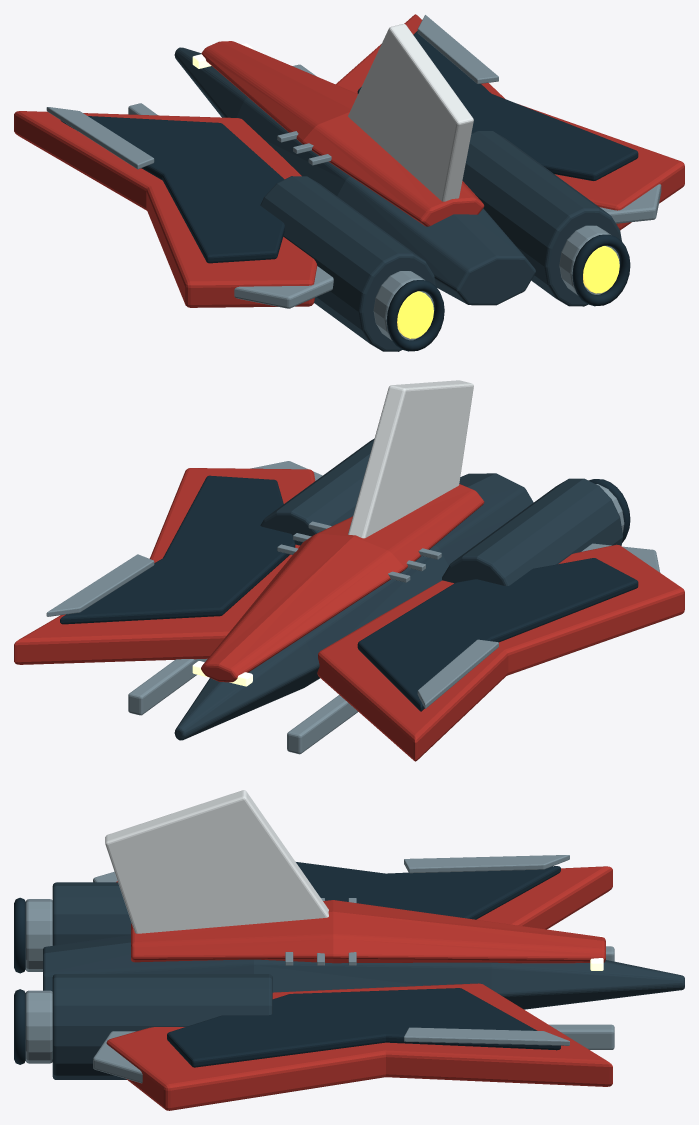
Rendered from InterceptorB-v3.fbx.
3 views of the same model, one above another, from view 1: azimuth 30°, elevation 25°; view 2: azimuth 150°, elevation 25°; view 3: azimuth 270°, elevation 25° (orthographic).
Parts seen in each view (by area): view 1: GFC2_InterceptorB_BladeWing_L, GFC2_InterceptorB_Core, GFC2_InterceptorB_WingPanel_L, GFC2_InterceptorB_Armor, GFC2_InterceptorB_DorsalBlade, GFC2_InterceptorB_Engine_L, GFC2_InterceptorB_Engine_R, GFC2_InterceptorB_WingPanel_R, GFC2_InterceptorB_BladeWing_R, GFC2_InterceptorB_SilverEdge_L, GFC2_InterceptorB_NozzleLip_R, GFC2_InterceptorB_NozzleLip_L (+8 smaller); view 2: GFC2_InterceptorB_BladeWing_L, GFC2_InterceptorB_Armor, GFC2_InterceptorB_WingPanel_R, GFC2_InterceptorB_WingPanel_L, GFC2_InterceptorB_Core, GFC2_InterceptorB_BladeWing_R, GFC2_InterceptorB_DorsalBlade, GFC2_InterceptorB_Engine_L, GFC2_InterceptorB_Engine_R, GFC2_InterceptorB_SilverEdge_R, GFC2_InterceptorB_Gun_R, GFC2_InterceptorB_Gun_L (+2 smaller); view 3: GFC2_InterceptorB_BladeWing_R, GFC2_InterceptorB_DorsalBlade, GFC2_InterceptorB_Armor, GFC2_InterceptorB_Core, GFC2_InterceptorB_WingPanel_R, GFC2_InterceptorB_Engine_R, GFC2_InterceptorB_WingPanel_L, GFC2_InterceptorB_BladeWing_L, GFC2_InterceptorB_Engine_L, GFC2_InterceptorB_SilverEdge_R, GFC2_InterceptorB_SilverEdge_L, GFC2_InterceptorB_Nozzle_R (+5 smaller).
Part boxes in pixels (<box>): GFC2_InterceptorB_BladeWing_L: <box>14,111,317,307</box>; GFC2_InterceptorB_Core: <box>174,47,535,305</box>; GFC2_InterceptorB_WingPanel_L: <box>60,116,284,263</box>; GFC2_InterceptorB_Armor: <box>201,41,484,226</box>; GFC2_InterceptorB_DorsalBlade: <box>348,24,473,201</box>; GFC2_InterceptorB_Engine_L: <box>260,176,435,351</box>; GFC2_InterceptorB_Engine_R: <box>462,131,621,306</box>; GFC2_InterceptorB_WingPanel_R: <box>357,31,638,180</box>; GFC2_InterceptorB_BladeWing_R: <box>335,14,684,230</box>; GFC2_InterceptorB_SilverEdge_L: <box>46,107,154,169</box>; GFC2_InterceptorB_NozzleLip_R: <box>572,234,630,306</box>; GFC2_InterceptorB_NozzleLip_L: <box>386,280,444,351</box>; GFC2_InterceptorB_BladeWing_L: <box>317,544,684,761</box>; GFC2_InterceptorB_Armor: <box>201,484,484,682</box>; GFC2_InterceptorB_WingPanel_R: <box>60,475,295,624</box>; GFC2_InterceptorB_WingPanel_L: <box>357,558,638,711</box>; GFC2_InterceptorB_Core: <box>174,473,533,740</box>; GFC2_InterceptorB_BladeWing_R: <box>14,468,315,664</box>; GFC2_InterceptorB_DorsalBlade: <box>348,380,473,538</box>; GFC2_InterceptorB_Engine_L: <box>442,478,622,586</box>; GFC2_InterceptorB_Engine_R: <box>260,438,374,545</box>; GFC2_InterceptorB_SilverEdge_R: <box>46,554,154,616</box>; GFC2_InterceptorB_Gun_R: <box>128,658,207,715</box>; GFC2_InterceptorB_Gun_L: <box>287,695,358,754</box>; GFC2_InterceptorB_BladeWing_R: <box>106,983,612,1110</box>; GFC2_InterceptorB_DorsalBlade: <box>105,790,328,933</box>; GFC2_InterceptorB_Armor: <box>131,900,605,963</box>; GFC2_InterceptorB_Core: <box>43,935,684,1009</box>; GFC2_InterceptorB_WingPanel_R: <box>167,988,560,1067</box>; GFC2_InterceptorB_Engine_R: <box>52,974,272,1079</box>; GFC2_InterceptorB_WingPanel_L: <box>296,862,560,919</box>; GFC2_InterceptorB_BladeWing_L: <box>116,866,612,929</box>; GFC2_InterceptorB_Engine_L: <box>52,882,131,945</box>; GFC2_InterceptorB_SilverEdge_R: <box>404,1027,569,1045</box>; GFC2_InterceptorB_SilverEdge_L: <box>404,855,569,873</box>; GFC2_InterceptorB_Nozzle_R: <box>25,990,52,1063</box>.
Bounding box in the file's own units: 1.29 × 0.5834 × 1.49.
